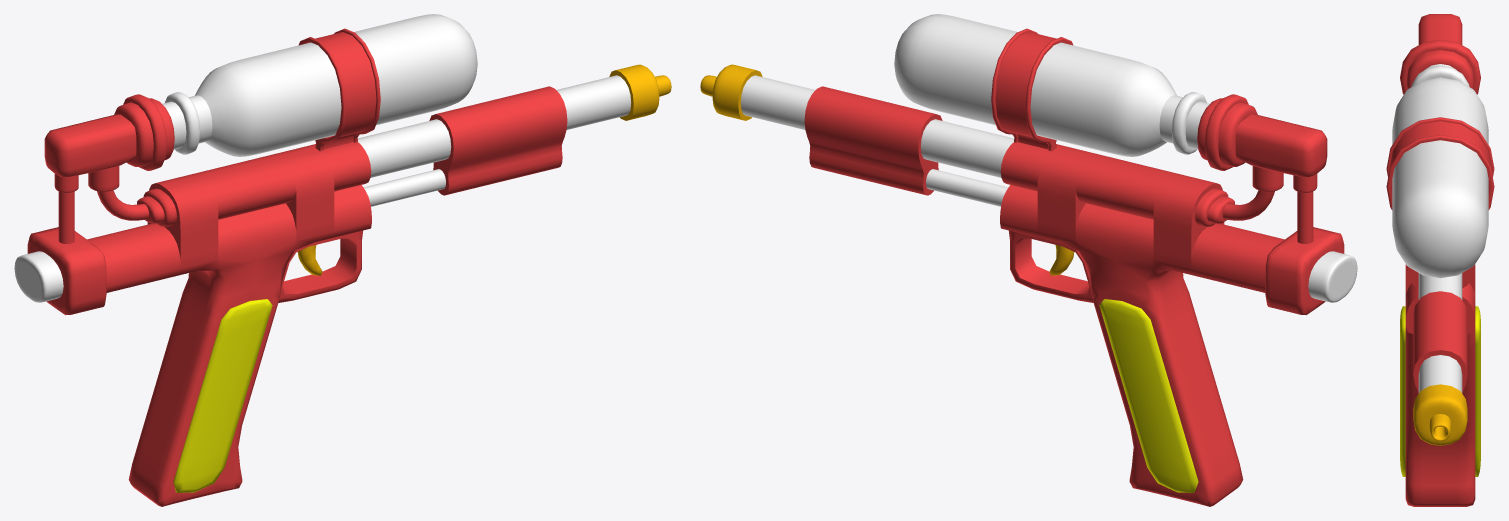
The model's file is superSoaker.fbx.
3 renders of one model, left to right at view 1: azimuth 30°, elevation 25°; view 2: azimuth 150°, elevation 25°; view 3: azimuth 270°, elevation 25°, orthographic. The views are drawn at different scales.
Visible parts, largest first — view 1: Frame, Pump Upper, Grip, Barrel, Pump Tube; view 2: Frame, Pump Upper, Grip, Barrel, Pump Tube; view 3: Frame, Barrel, Pump Upper, Grip.
Part boxes in pixels (<box>): Frame: <box>14,14,477,506</box>; Pump Upper: <box>429,86,567,195</box>; Grip: <box>173,299,272,492</box>; Barrel: <box>357,64,671,177</box>; Pump Tube: <box>363,169,445,206</box>; Frame: <box>894,14,1357,506</box>; Pump Upper: <box>804,86,942,195</box>; Grip: <box>1099,299,1198,492</box>; Barrel: <box>700,64,1014,177</box>; Pump Tube: <box>926,169,1008,206</box>; Frame: <box>1386,14,1494,506</box>; Barrel: <box>1413,273,1467,445</box>; Pump Upper: <box>1413,291,1467,391</box>; Grip: <box>1400,306,1480,476</box>.
Size of the model in its own units: 843 by 521 by 116.
